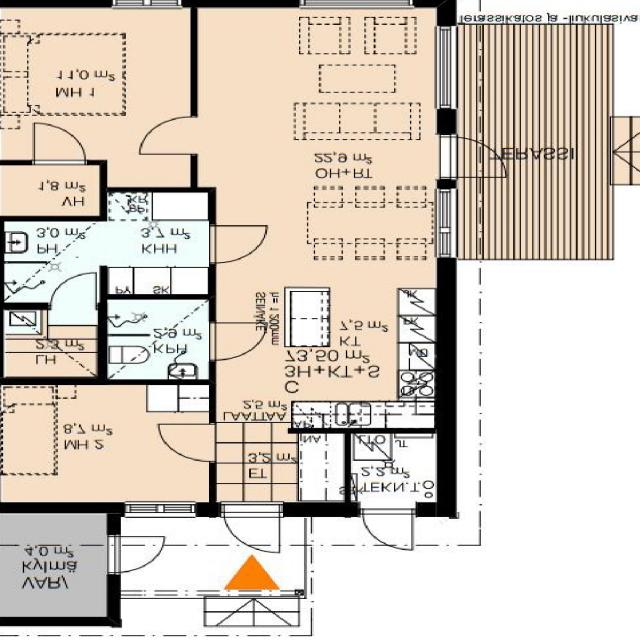door: (437, 137, 513, 177), (225, 502, 280, 556), (364, 502, 412, 552), (188, 226, 250, 264), (108, 536, 171, 573), (210, 335, 270, 373), (158, 424, 217, 461), (141, 117, 197, 154), (50, 270, 96, 309)
